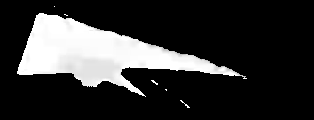Plane: (13, 10, 249, 101)
